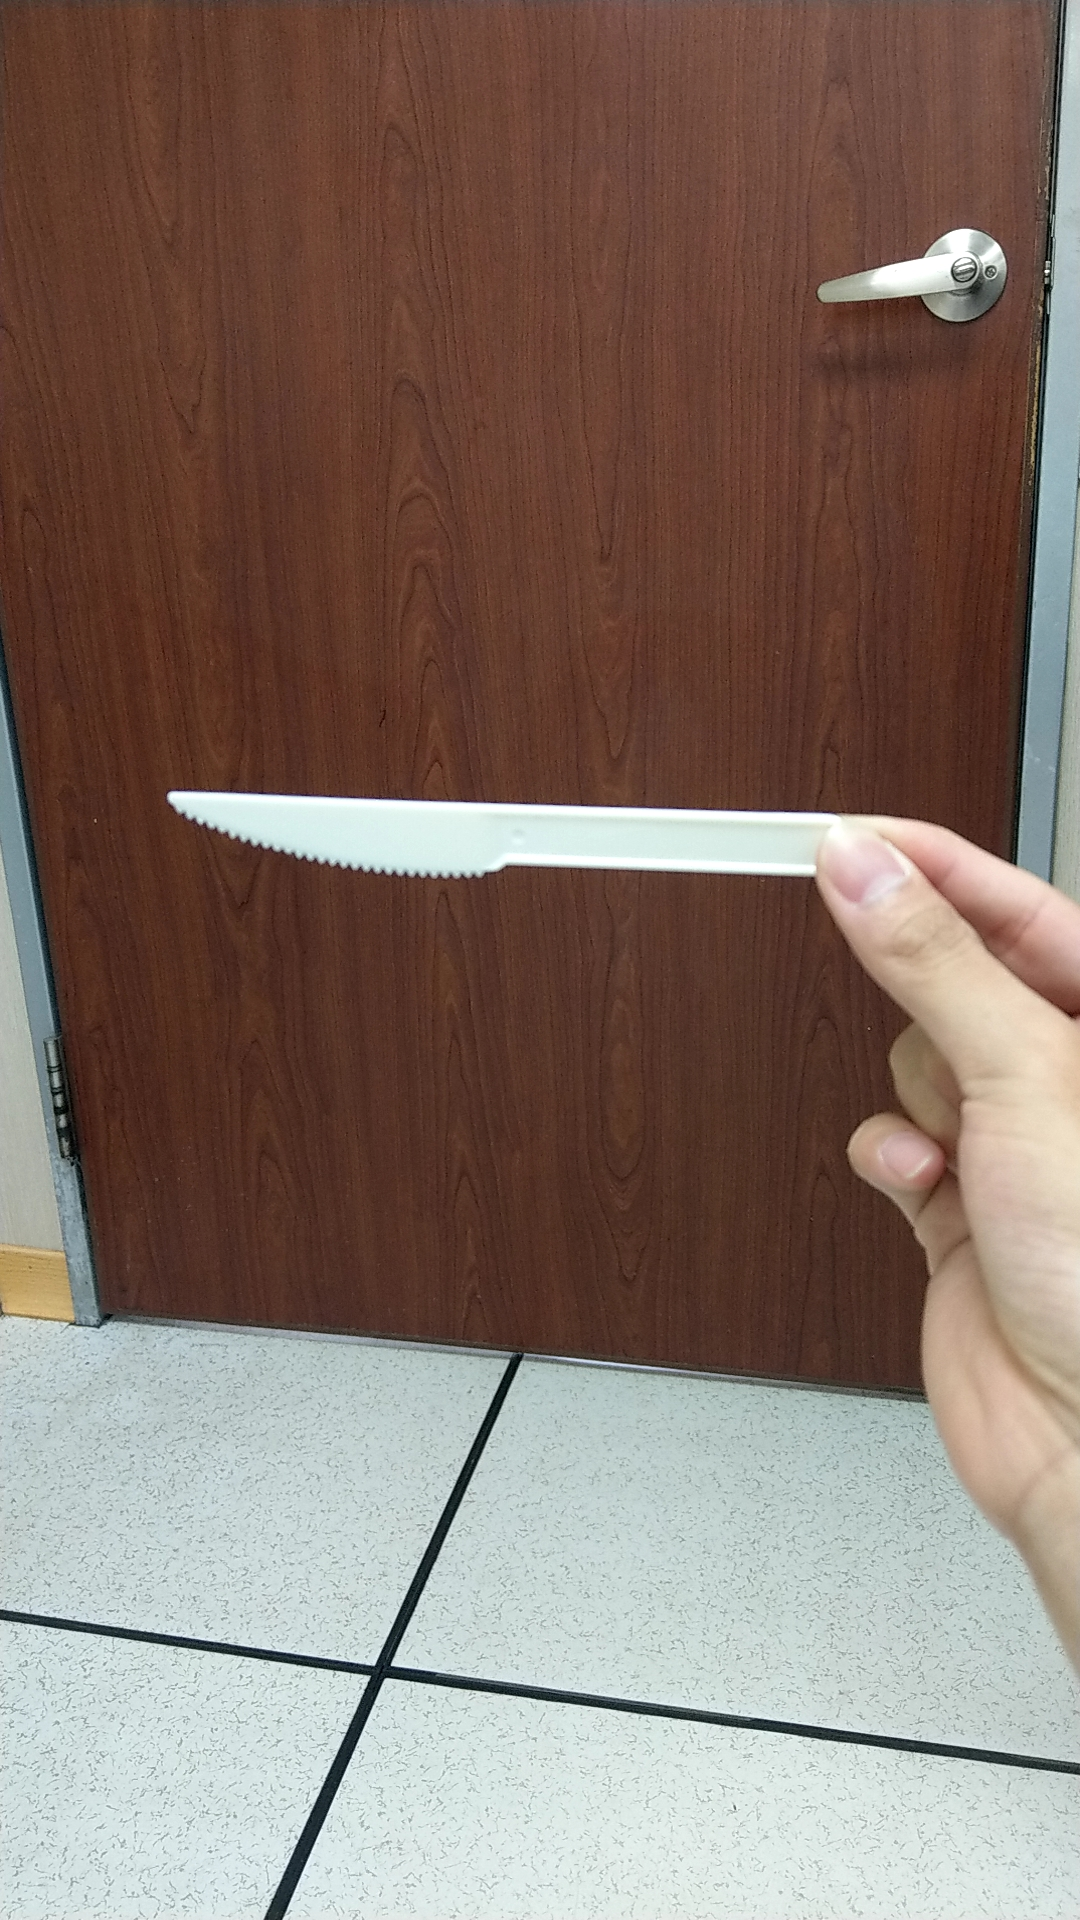knife: (140, 771, 880, 905)
